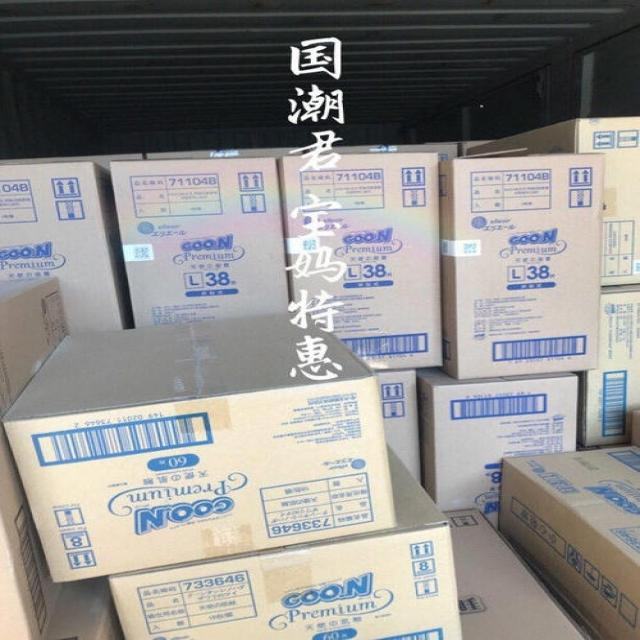box: (1, 308, 397, 584), (108, 446, 463, 640), (438, 148, 604, 381), (275, 152, 444, 370), (110, 158, 291, 325), (467, 115, 640, 286), (497, 446, 640, 640), (417, 367, 580, 526), (0, 161, 134, 334), (443, 507, 586, 640), (0, 422, 51, 640), (576, 284, 640, 448), (0, 276, 67, 421), (375, 369, 422, 486), (42, 576, 125, 640), (312, 145, 458, 163), (0, 154, 142, 169), (147, 149, 302, 159)
